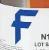Fisher: (9, 8, 40, 44)
